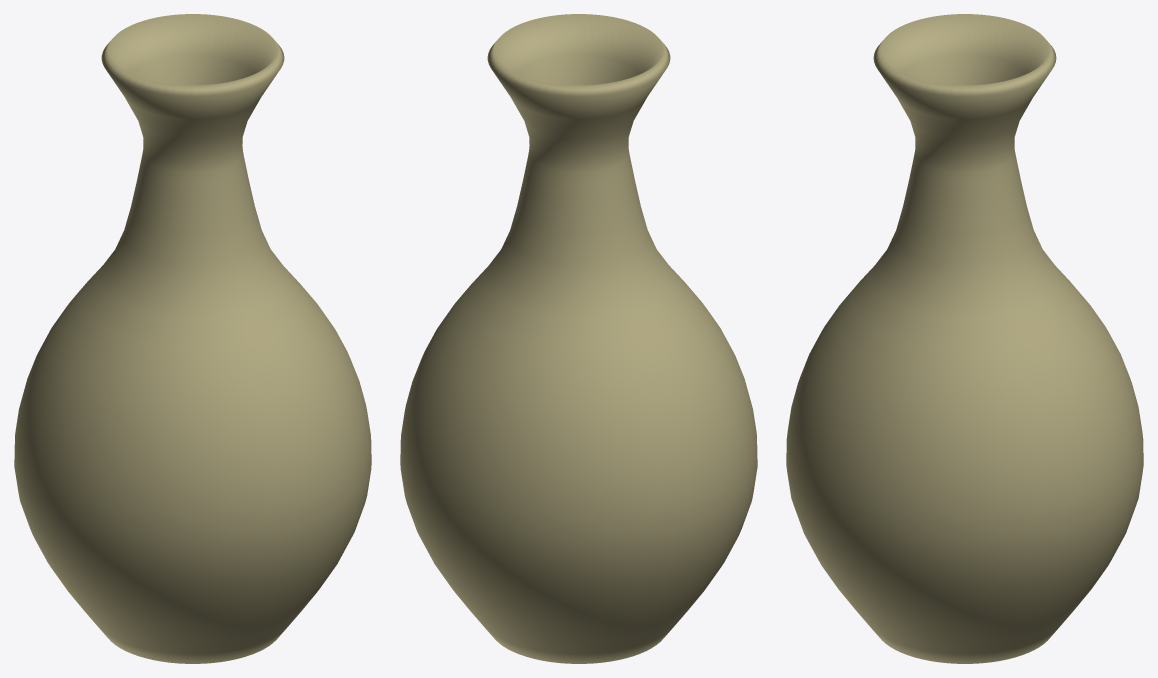
Rendered from Pot 1.fbx.
The picture shows the model from 3 angles, left to right: view 1: azimuth 30°, elevation 25°; view 2: azimuth 150°, elevation 25°; view 3: azimuth 270°, elevation 25°; orthographic projection.
Parts seen in each view (by area): view 1: Pot; view 2: Pot; view 3: Pot.
Part boxes in pixels (x1,y1,x2,y2): Pot: (14,14,371,663); Pot: (400,14,757,663); Pot: (786,14,1143,663).
Size of the model in its own units: 193 by 344 by 193.
